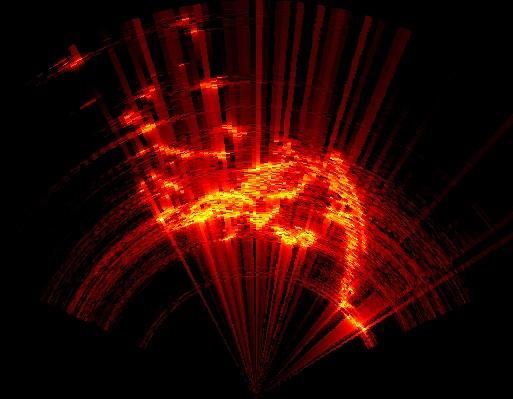shipwreck: (165, 142, 365, 308), (152, 139, 227, 161), (136, 122, 162, 137)
